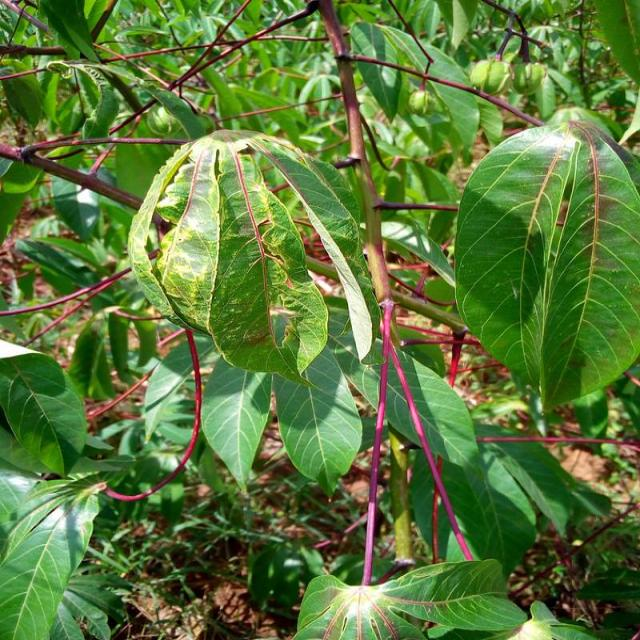cassava leaf: (127, 127, 378, 385), (453, 117, 639, 413)
